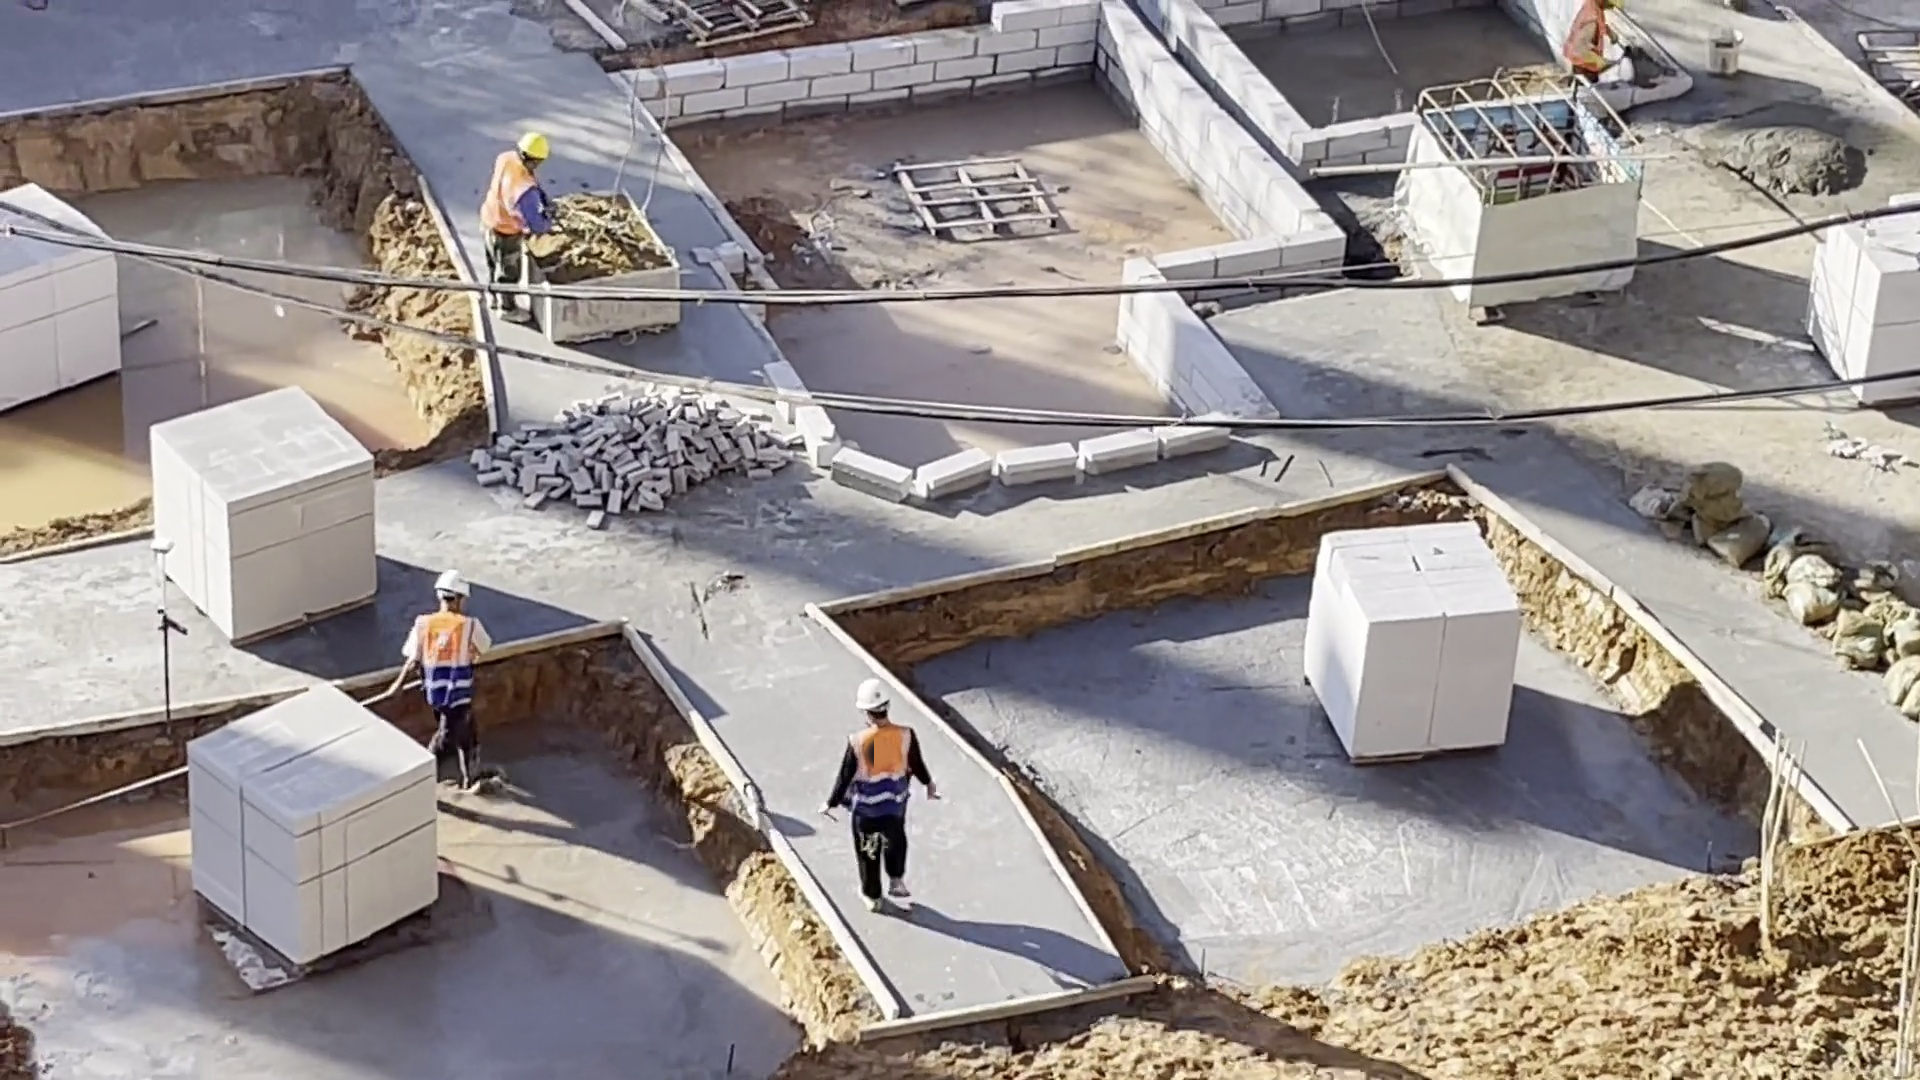brick: (184, 676, 441, 971), (146, 380, 376, 650), (1305, 512, 1527, 771), (4, 245, 124, 420), (1794, 235, 1920, 373)
helmet: (432, 569, 475, 604), (514, 131, 553, 165), (853, 679, 891, 711)
person: (818, 678, 943, 916), (396, 571, 510, 795), (470, 130, 563, 285)
vest: (414, 612, 479, 710), (849, 727, 914, 818), (484, 152, 538, 241)
